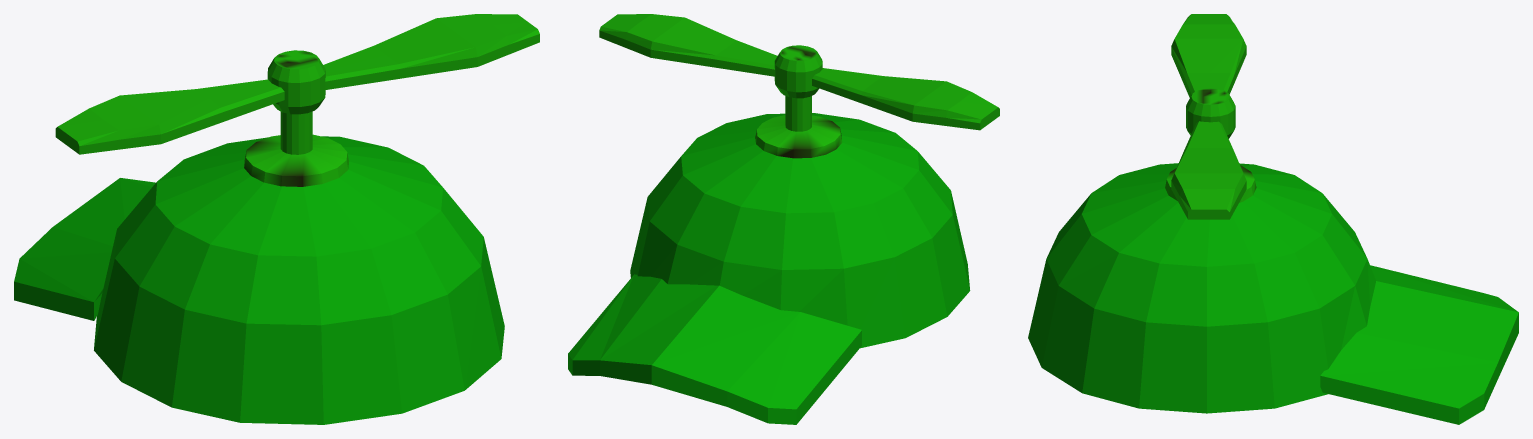
File: hat.glb
3 renders of one model, left to right at view 1: azimuth 30°, elevation 25°; view 2: azimuth 150°, elevation 25°; view 3: azimuth 270°, elevation 25°, orthographic. The views are drawn at different scales.
Visible parts, largest first — view 1: Node1; view 2: Node1; view 3: Node1.
Part boxes in pixels (left/top/right/bottom): Node1: left=14, top=14, right=539, bottom=424; Node1: left=568, top=14, right=999, bottom=424; Node1: left=1028, top=14, right=1518, bottom=424.
Bounding box in the file's own units: 0.1818 × 0.1173 × 0.1929.
